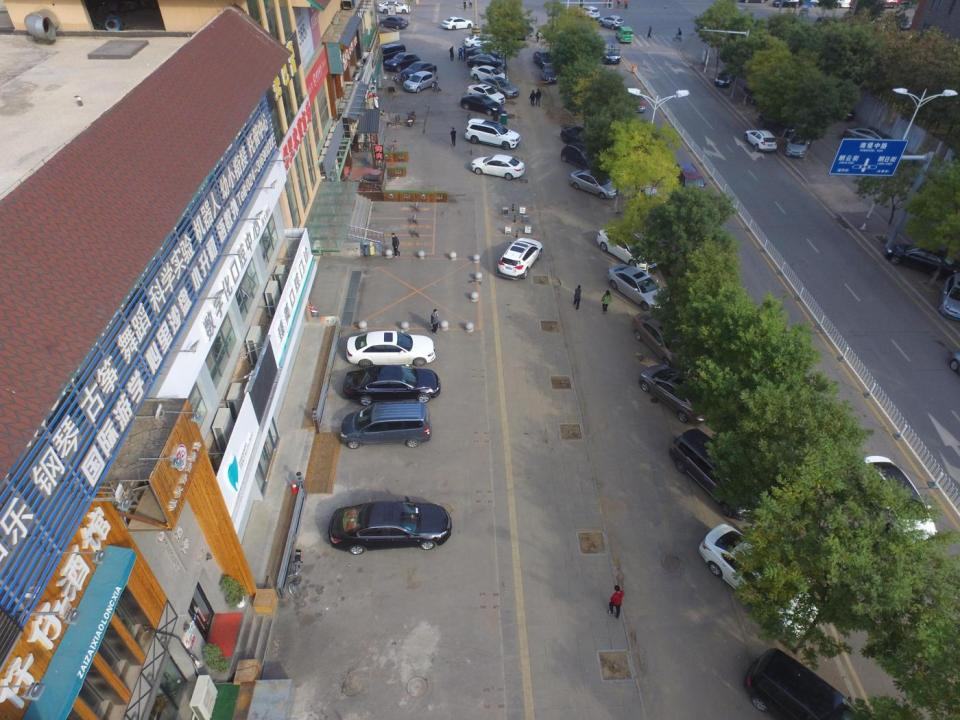car: (698, 523, 822, 641), (668, 427, 765, 516), (859, 456, 936, 544), (326, 502, 454, 554), (641, 363, 719, 419), (633, 310, 701, 371), (345, 364, 440, 404), (346, 331, 434, 366), (608, 263, 672, 311), (597, 227, 659, 271), (886, 242, 959, 278), (496, 237, 541, 279), (464, 118, 520, 148), (842, 127, 894, 158), (569, 168, 618, 199), (670, 162, 707, 203), (471, 154, 526, 181), (561, 142, 605, 173), (560, 126, 601, 153), (820, 91, 854, 122), (460, 92, 500, 116), (479, 75, 518, 99), (744, 128, 779, 154), (467, 84, 505, 107), (743, 82, 775, 109), (469, 65, 507, 87), (467, 54, 505, 75), (786, 128, 812, 158), (466, 47, 504, 67), (403, 71, 437, 93), (402, 61, 437, 80), (385, 53, 419, 72), (465, 36, 503, 50), (442, 16, 473, 31), (600, 41, 621, 63), (624, 90, 644, 112), (378, 1, 410, 14), (511, 22, 534, 40), (598, 15, 625, 30), (533, 50, 554, 69), (714, 69, 736, 87), (379, 16, 408, 29), (541, 64, 560, 83), (578, 6, 600, 20), (617, 27, 634, 44)
van: (746, 648, 867, 720), (339, 403, 430, 447), (373, 42, 405, 60)
